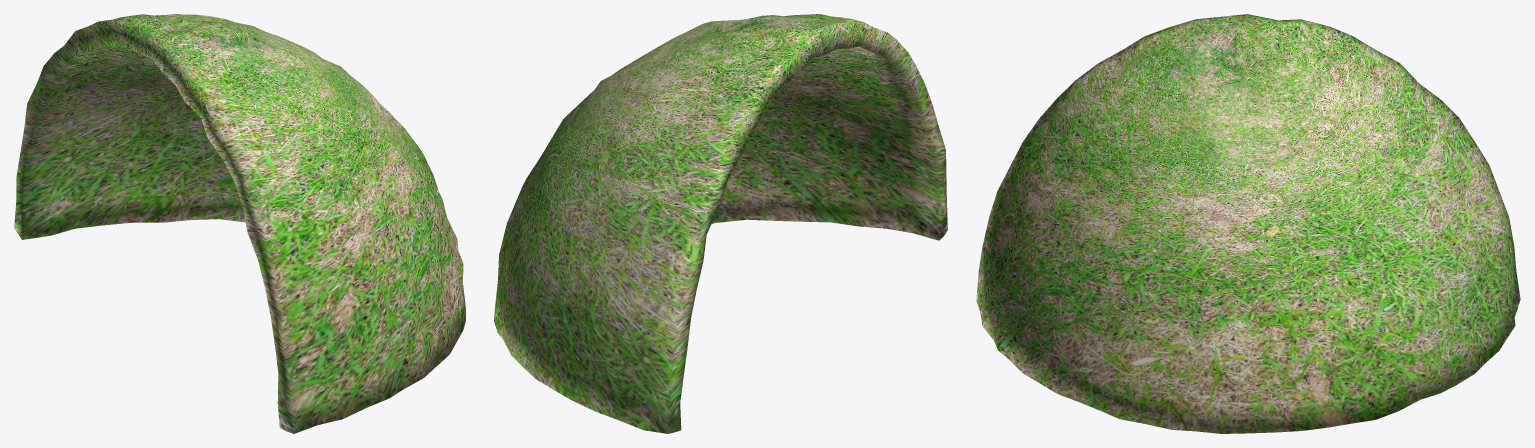
File: Grass Hill Open Semicircle.fbx
3 views of the same model, side by side, from view 1: azimuth 30°, elevation 25°; view 2: azimuth 150°, elevation 25°; view 3: azimuth 270°, elevation 25° (orthographic). The views are drawn at different scales.
Visible parts, largest first — view 1: Sphere; view 2: Sphere; view 3: Sphere.
Boxes of the visible parts, x1=… form: Sphere: x1=14, y1=14, x2=465, y2=433; Sphere: x1=494, y1=14, x2=947, y2=433; Sphere: x1=976, y1=14, x2=1520, y2=433.
Size of the model in its own units: 6.56 by 6.57 by 11.1.
